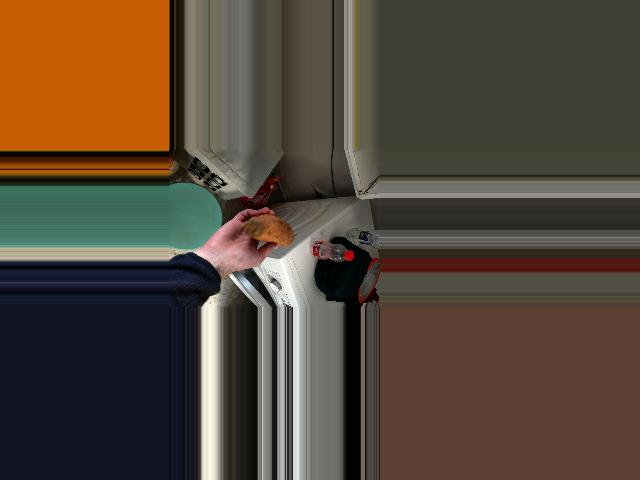sweet_potato: (238, 216, 295, 241)
